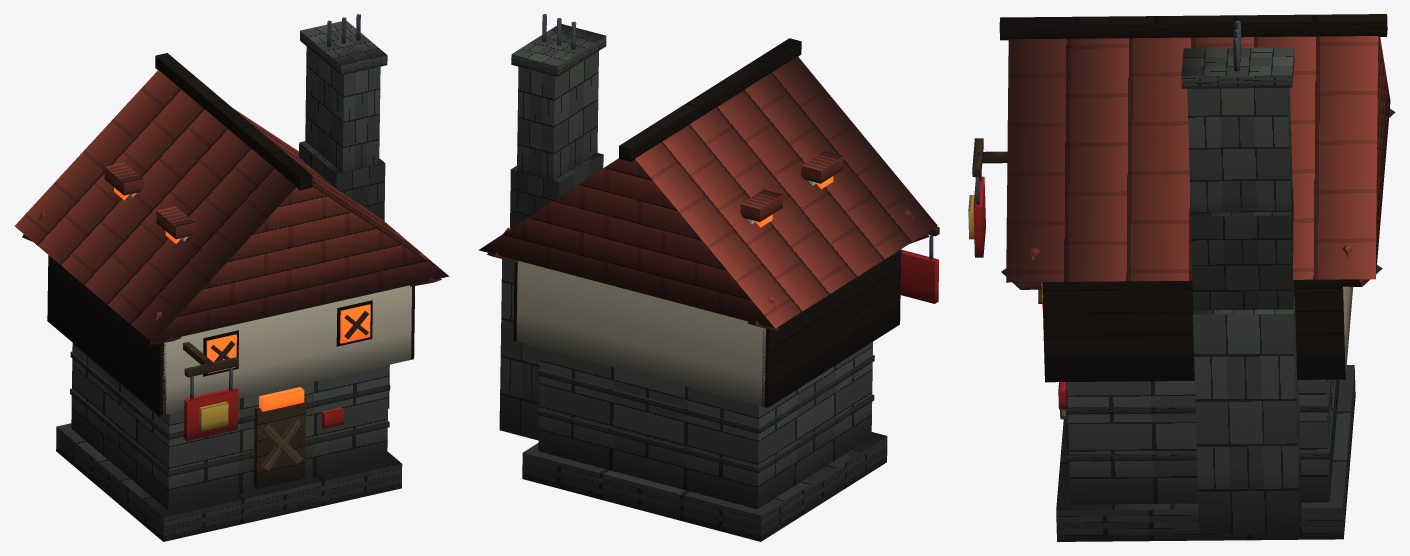
Rendered from tavern.glb.
3 views of the same model, side by side, from view 1: azimuth 30°, elevation 25°; view 2: azimuth 150°, elevation 25°; view 3: azimuth 270°, elevation 25° (orthographic). The views are drawn at different scales.
Parts seen in each view (by area): view 1: tavern; view 2: tavern; view 3: tavern.
Part boxes in pixels (left/top/right/bottom): tavern: left=14, top=14, right=449, bottom=541; tavern: left=478, top=14, right=939, bottom=541; tavern: left=968, top=14, right=1395, bottom=541.
Size of the model in its own units: 2.6 by 3.32 by 2.47.
Materials: 1 (1 with a texture image).
